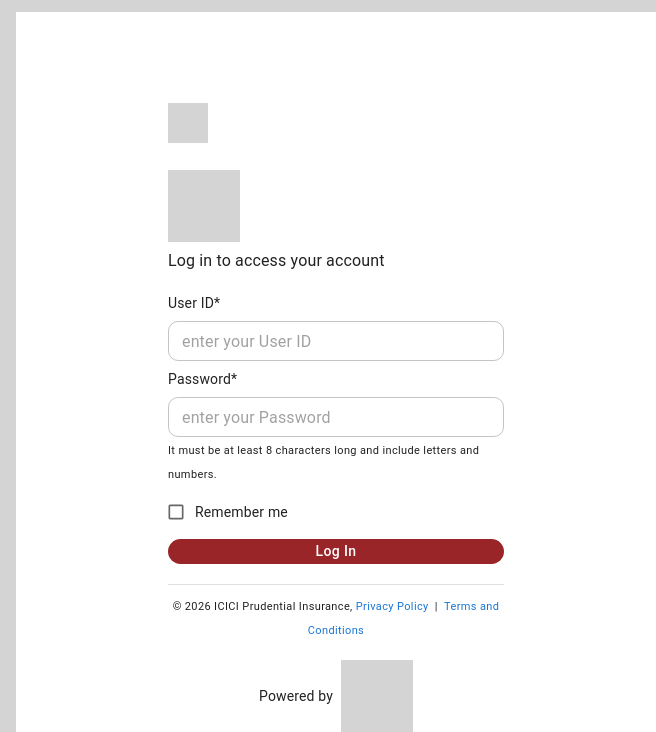
Test: Login › shows validation errors when fields are empty
What coordinates should you click on to do the following:
click the button "Log In"
I would click on:
 (336, 552)
Its box is [168,539,504,564].
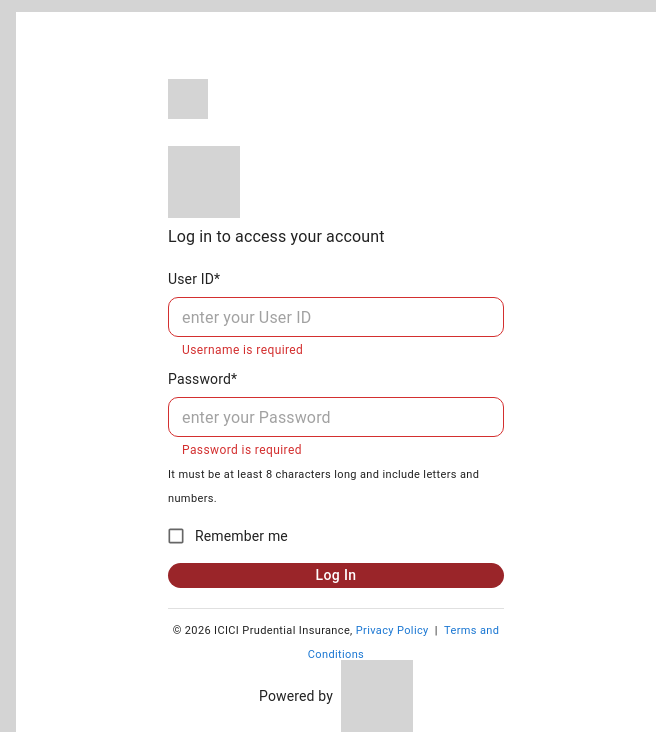
Expected: the text "Username is required" is shown, [182,343,303,357]
Expected: the text "Password is required" is shown, [182,443,302,457]
